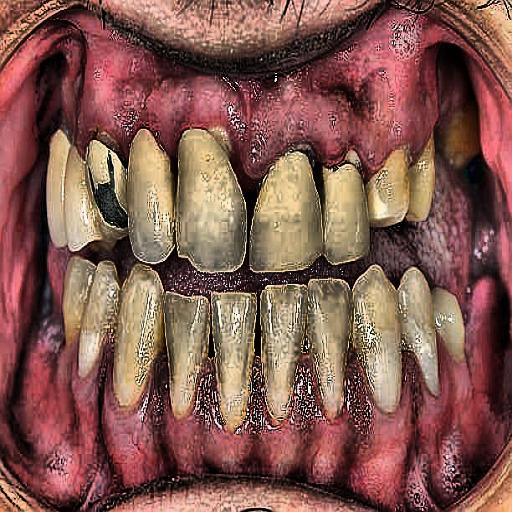Calculus: (70, 332, 476, 476), (28, 99, 194, 266), (278, 124, 467, 258)
